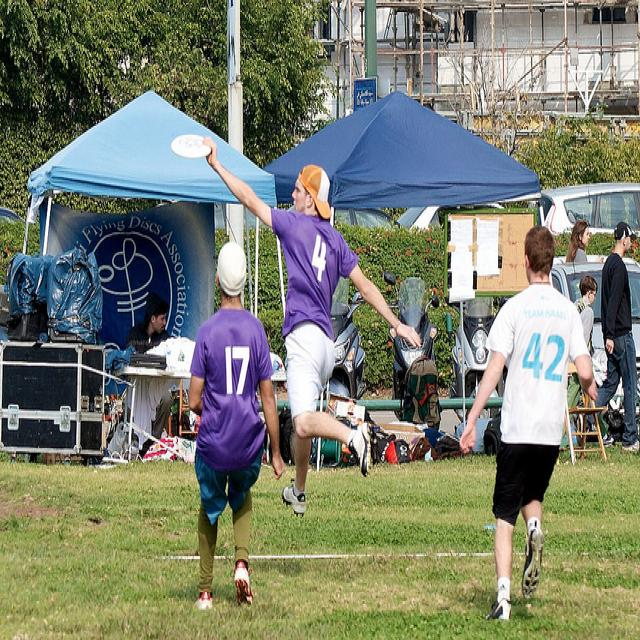motor: (381, 270, 440, 421), (448, 295, 507, 401)
